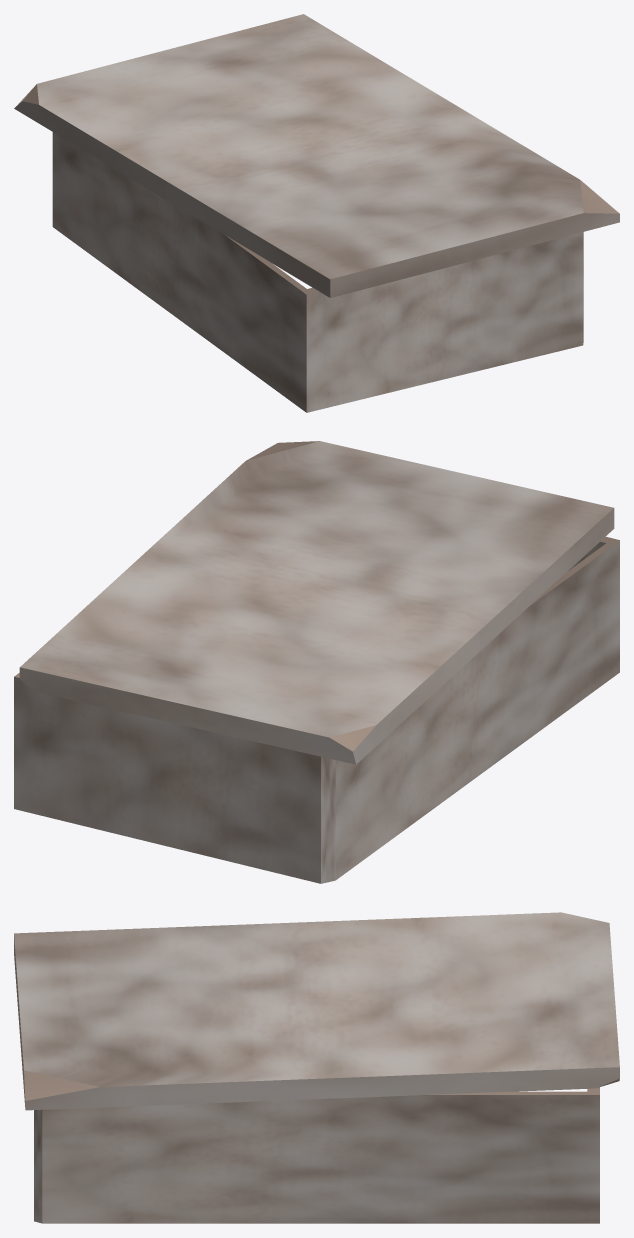
Rendered from F_Tomb_2.fbx.
The picture shows the model from 3 angles, top to bottom: view 1: azimuth 30°, elevation 25°; view 2: azimuth 150°, elevation 25°; view 3: azimuth 270°, elevation 25°; orthographic projection. The views are drawn at different scales.
Parts seen in each view (by area): view 1: F_Tomb_2; view 2: F_Tomb_2; view 3: F_Tomb_2.
Boxes of the visible parts, <box> form: F_Tomb_2: <box>14,14,619,412</box>; F_Tomb_2: <box>14,441,619,883</box>; F_Tomb_2: <box>14,912,619,1223</box>.
Size of the model in its own units: 3.62 by 0.981 by 2.54.
Materials: 1 (1 with a texture image).
